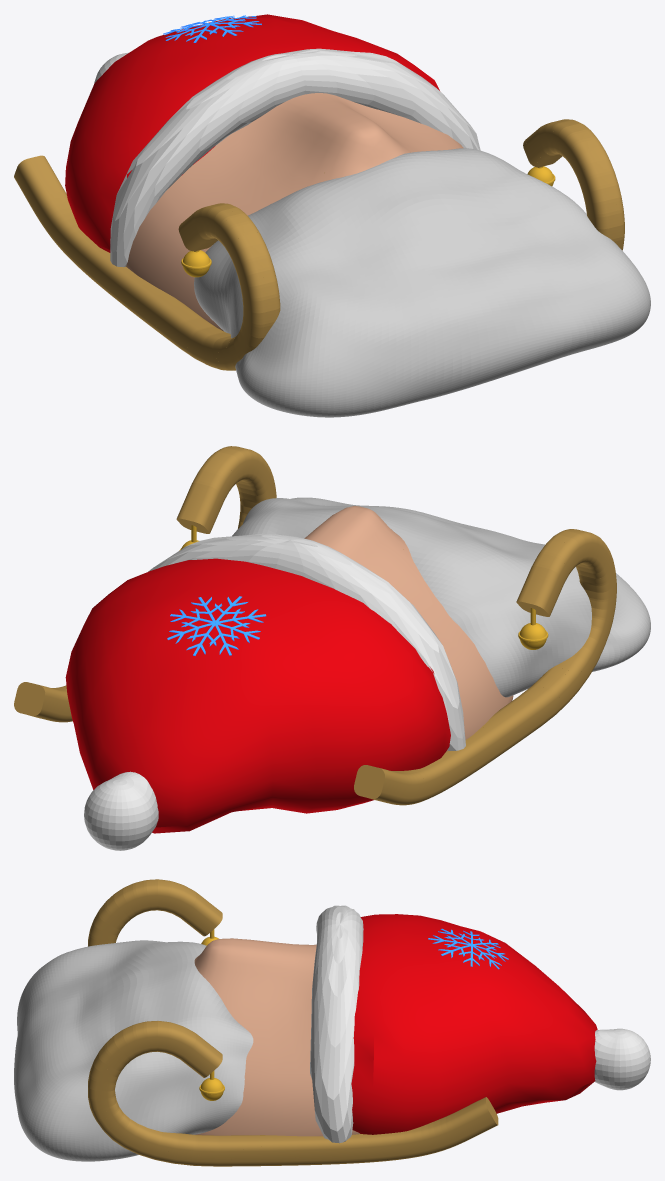
File: SantaModel.fbx
The picture shows the model from 3 angles, top to bottom: view 1: azimuth 30°, elevation 25°; view 2: azimuth 150°, elevation 25°; view 3: azimuth 270°, elevation 25°; orthographic projection. The views are drawn at different scales.
Parts seen in each view (by area): view 1: Beard, Head, Cube.001, Sphere.002, Sphere.001, snowflake, Sphere.004; view 2: Sphere.002, Beard, Cube.001, Sphere.001, Head, Sphere.003, snowflake, Sphere.004; view 3: Sphere.002, Beard, Cube.001, Head, Sphere.001, Sphere.003, snowflake, Sphere.004.
Boxes of the visible parts, x1,y1,x2,y2 form: Beard: (194,148,650,417); Head: (126,93,463,331); Cube.001: (14,119,624,370); Sphere.002: (65,14,439,252); Sphere.001: (110,48,480,267); snowflake: (163,15,261,42); Sphere.004: (181,166,555,277); Sphere.002: (65,558,450,833); Beard: (232,497,650,697); Cube.001: (14,446,616,805); Sphere.001: (148,534,465,750); Head: (304,506,513,751); Sphere.003: (84,771,158,850); snowflake: (167,596,266,655); Sphere.004: (179,525,548,649); Sphere.002: (351,914,597,1134); Beard: (14,940,253,1161); Cube.001: (88,879,498,1166); Head: (194,938,359,1136); Sphere.001: (310,905,363,1143); Sphere.003: (594,1028,650,1090); snowflake: (428,928,508,969); Sphere.004: (199,929,224,1100).
Size of the model in its own units: 39.01 by 19.72 by 65.61.
